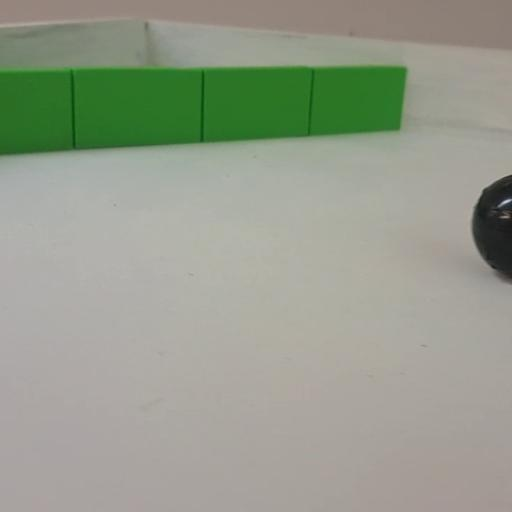dead: (469, 168, 512, 282)
